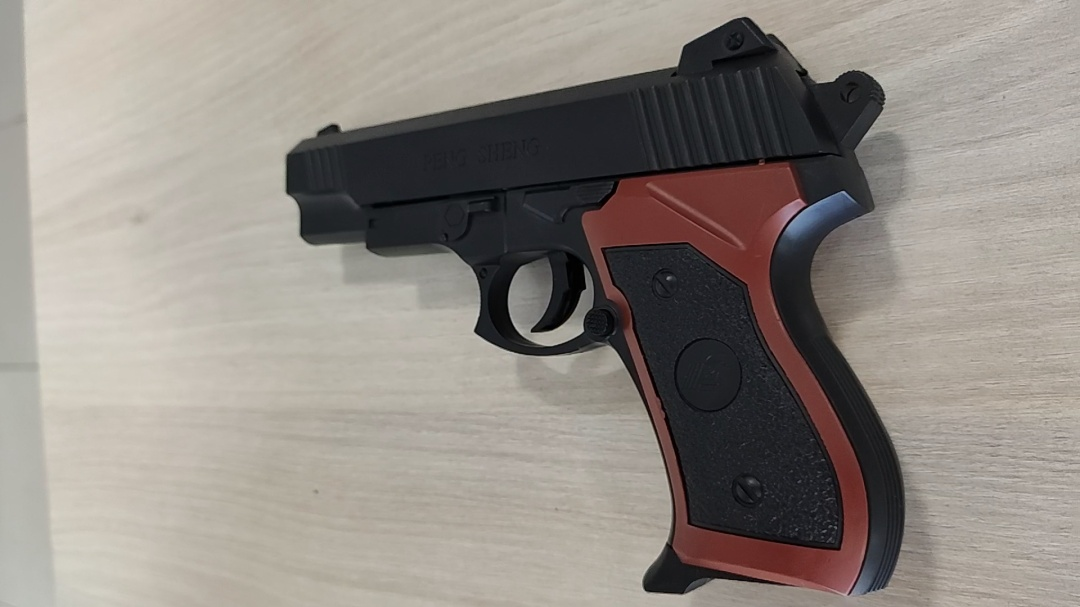gun: (284, 16, 908, 595)
